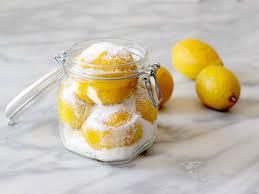lemon: (67, 43, 139, 105), (81, 109, 143, 150), (172, 38, 224, 79), (195, 64, 240, 111), (59, 74, 95, 130), (122, 87, 158, 125), (154, 63, 174, 104)
